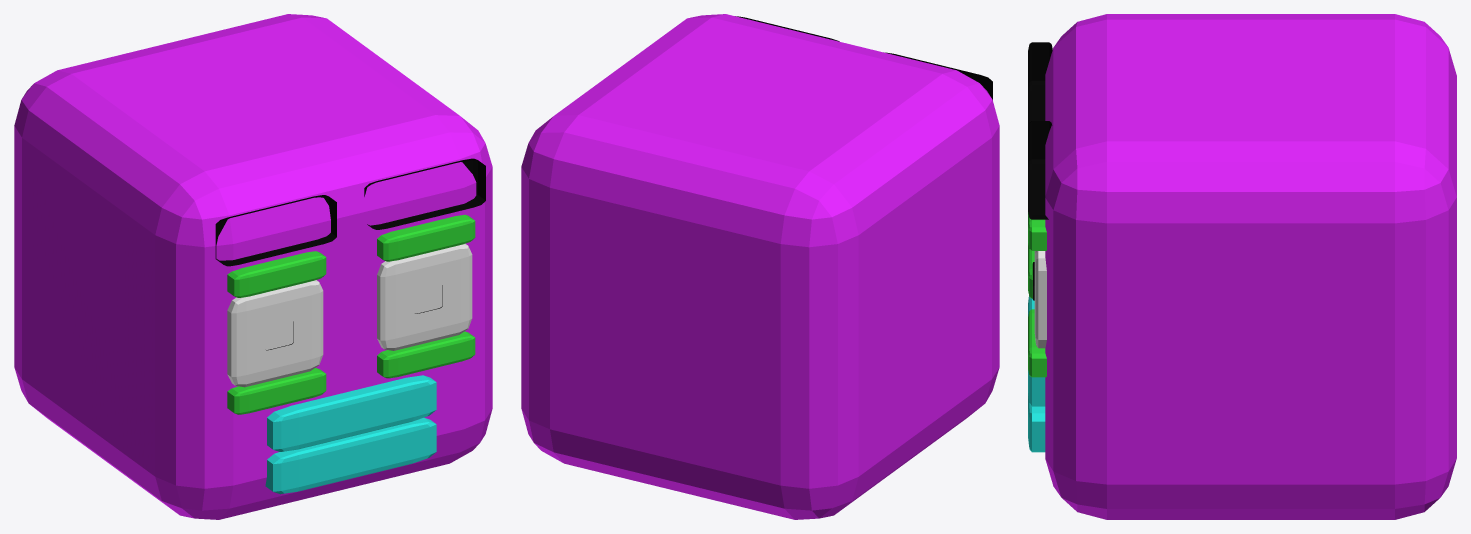
The model's file is Mini.glb.
3 renders of one model, left to right at view 1: azimuth 30°, elevation 25°; view 2: azimuth 150°, elevation 25°; view 3: azimuth 270°, elevation 25°, orthographic. The views are drawn at different scales.
Visible parts, largest first — view 1: Cube; view 2: Cube; view 3: Cube.
Boxes of the visible parts, <box> form: Cube: <box>14,14,492,519</box>; Cube: <box>521,14,999,519</box>; Cube: <box>1028,14,1456,519</box>.
Size of the model in its own units: 1 by 1 by 1.04.
